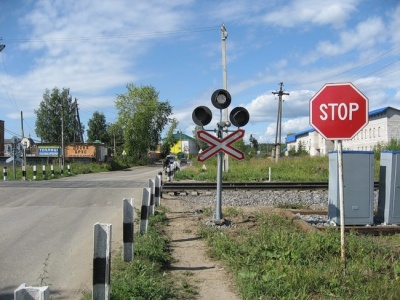stop: (314, 91, 363, 132)
